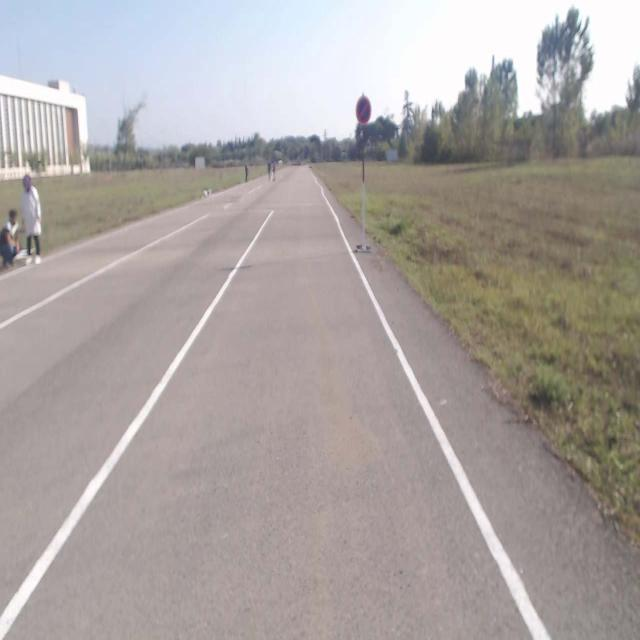parkyasak: (356, 98, 371, 124)
